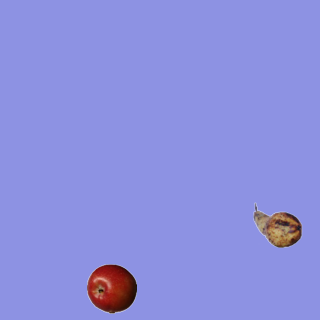Apple Braeburn: (86, 263, 136, 313)
Pear Abate: (252, 200, 302, 250)
